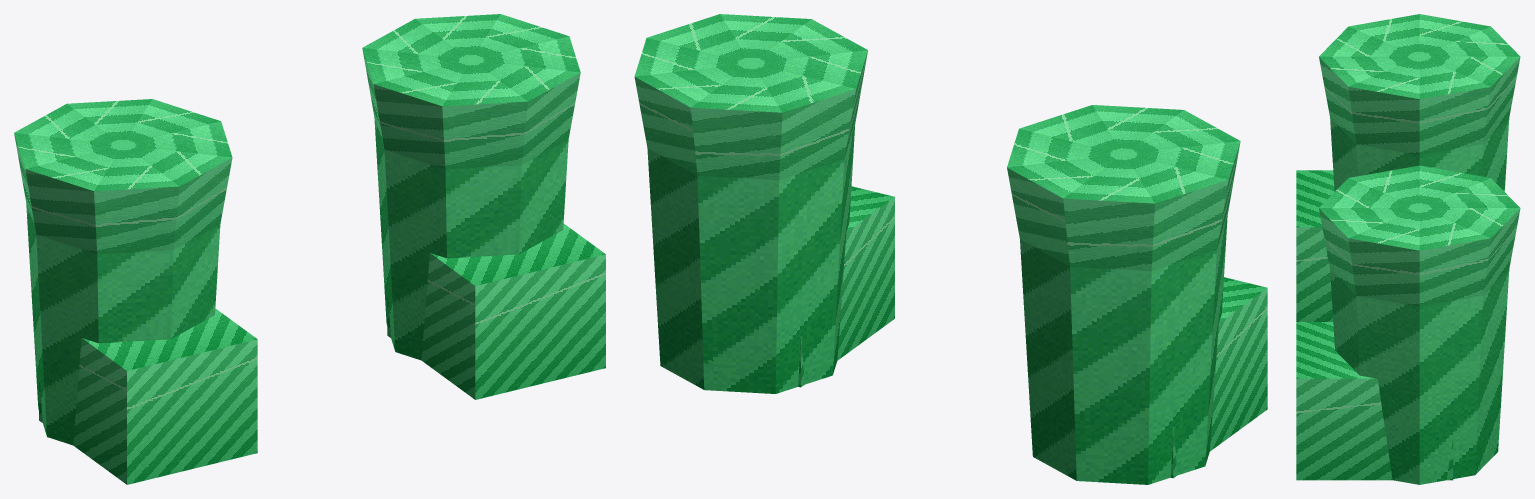
File: luvas_de_esmeralda.glb
The picture shows the model from 3 angles, left to right: view 1: azimuth 30°, elevation 25°; view 2: azimuth 150°, elevation 25°; view 3: azimuth 270°, elevation 25°; orthographic projection. The views are drawn at different scales.
Parts seen in each view (by area): view 1: luvas_de_esmeralda; view 2: luvas_de_esmeralda; view 3: luvas_de_esmeralda.
Part boxes in pixels (x1=…): luvas_de_esmeralda: x1=14, y1=14, x2=605, y2=484; luvas_de_esmeralda: x1=634, y1=14, x2=1267, y2=484; luvas_de_esmeralda: x1=1296, y1=14, x2=1520, y2=484.
Size of the model in its own units: 0.5 by 0.24 by 0.2.
1 material, 1 textured.
